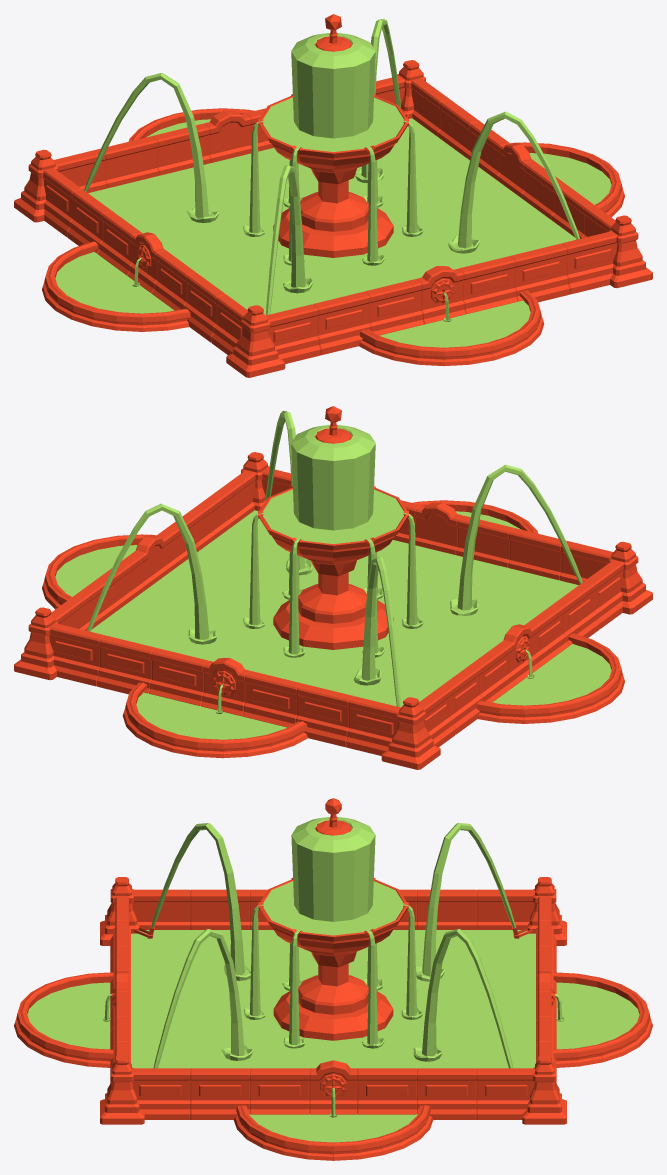
Rendered from SM_Fontaine_Fancy_Water_City.fbx.
The picture shows the model from 3 angles, top to bottom: view 1: azimuth 30°, elevation 25°; view 2: azimuth 150°, elevation 25°; view 3: azimuth 270°, elevation 25°; orthographic projection.
Parts seen in each view (by area): view 1: SM_Fontaine_Fancy_Water_City; view 2: SM_Fontaine_Fancy_Water_City; view 3: SM_Fontaine_Fancy_Water_City.
Boxes of the visible parts, left/top/right/bottom form: SM_Fontaine_Fancy_Water_City: left=14, top=14, right=652, bottom=377; SM_Fontaine_Fancy_Water_City: left=14, top=406, right=652, bottom=769; SM_Fontaine_Fancy_Water_City: left=14, top=798, right=652, bottom=1160.
Bounding box in the file's own units: 10.68 × 4.2 × 10.68.
